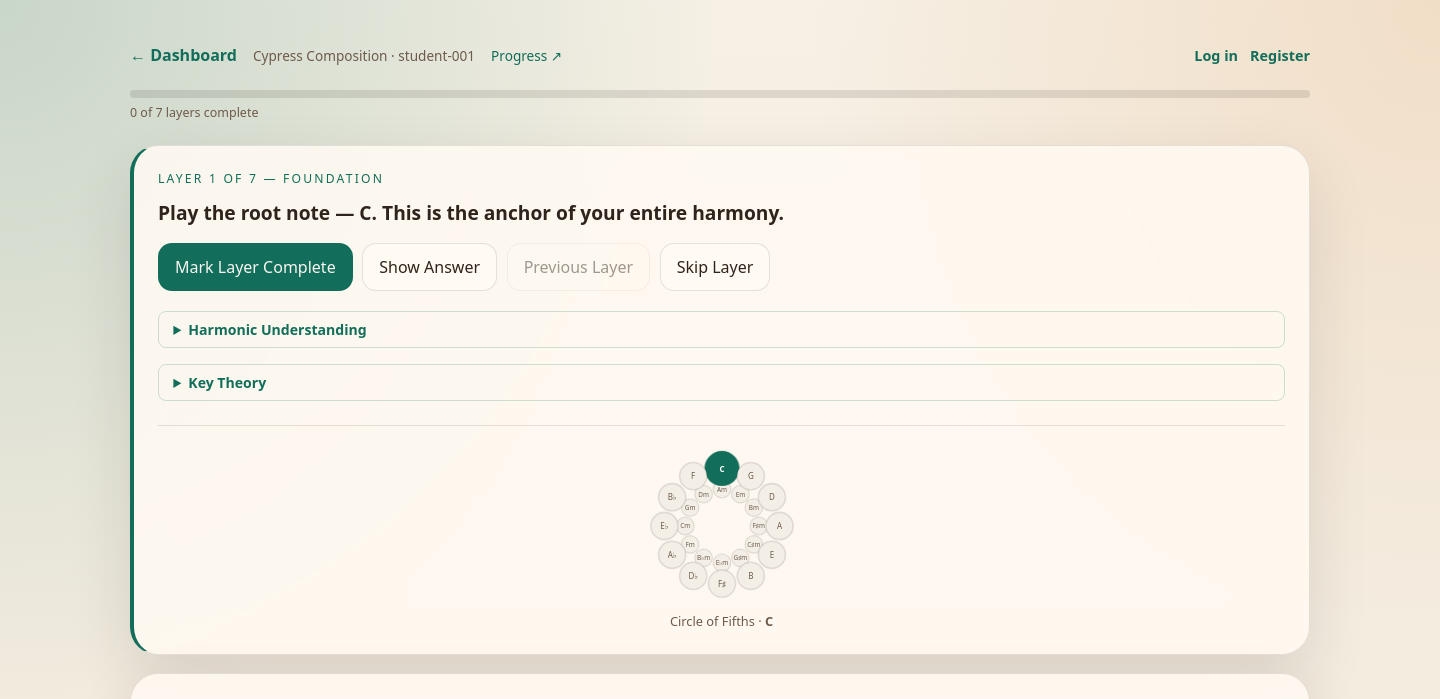
Puzzle page — Key Theory panel › theory text for C major mentions 'no sharps or flats'
Click the element with id "key-theory-panel": click(722, 383) x1=158 y1=364 x2=1285 y2=401
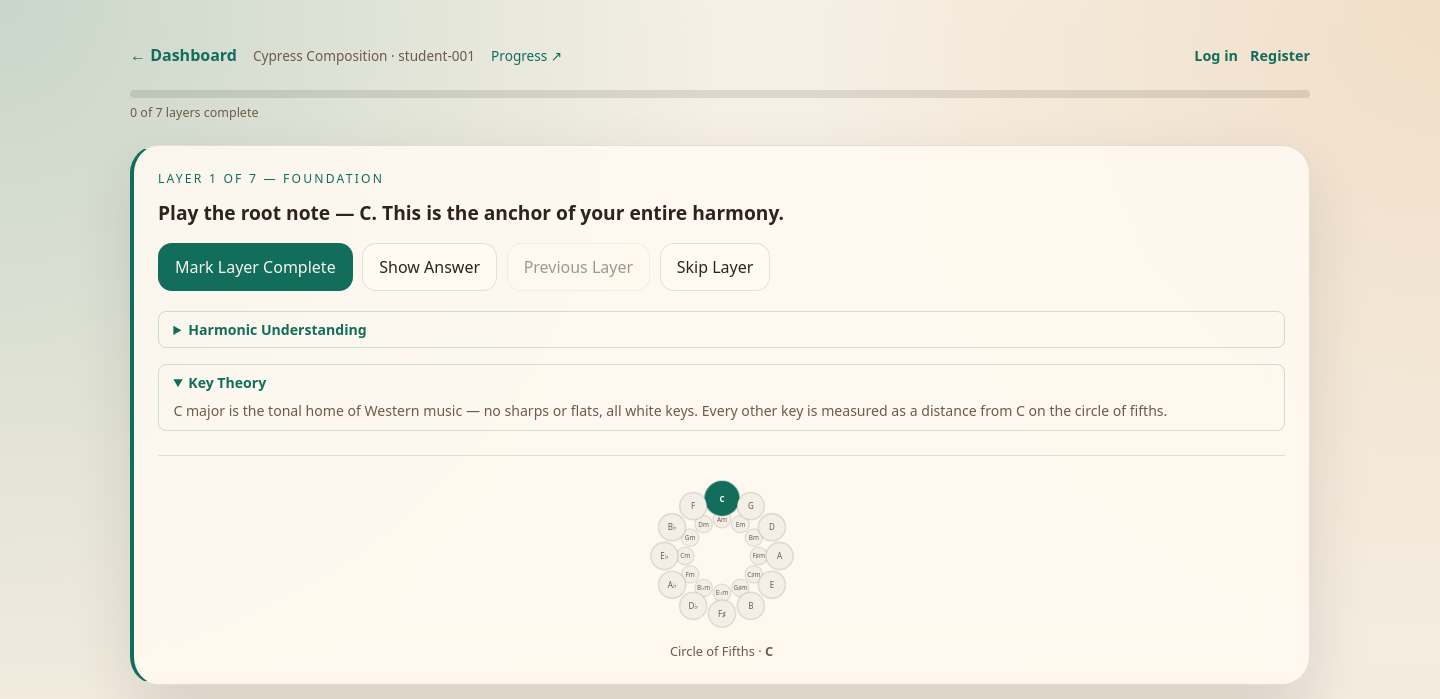
expect the text with id "key-theory-text" shows "no sharps or flats": met, box x1=173 y1=400 x2=1269 y2=422
